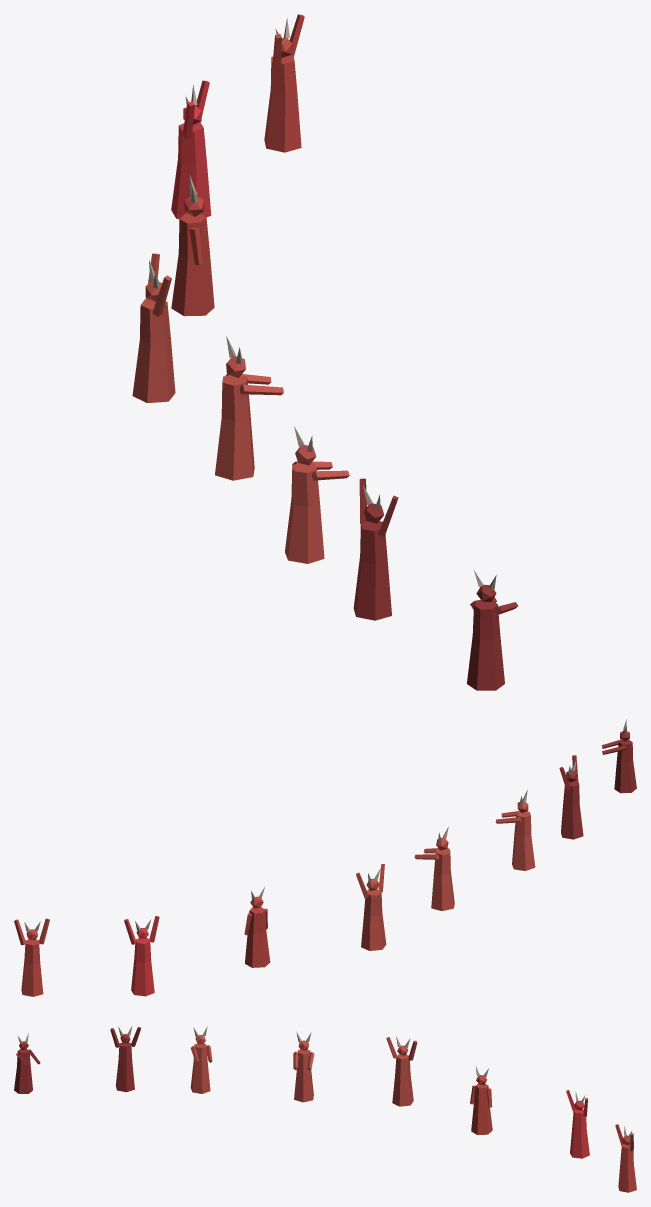
Rendered from Stands_4_0_1_Ice.obj.
The picture shows the model from 3 angles, top to bottom: view 1: azimuth 30°, elevation 25°; view 2: azimuth 150°, elevation 25°; view 3: azimuth 270°, elevation 25°; orthographic projection. The views are drawn at different scales.
Visible parts, largest first — view 1: Stands_4_0_1_Ice; view 2: Stands_4_0_1_Ice; view 3: Stands_4_0_1_Ice.
Boxes of the visible parts, x1,y1,x2,y2 form: Stands_4_0_1_Ice: [132, 14, 518, 690]; Stands_4_0_1_Ice: [14, 719, 636, 996]; Stands_4_0_1_Ice: [14, 1026, 636, 1192].
Bounding box in the file's own units: 13.52 × 3.73 × 31.99.
Materials: 1 (1 with a texture image).
